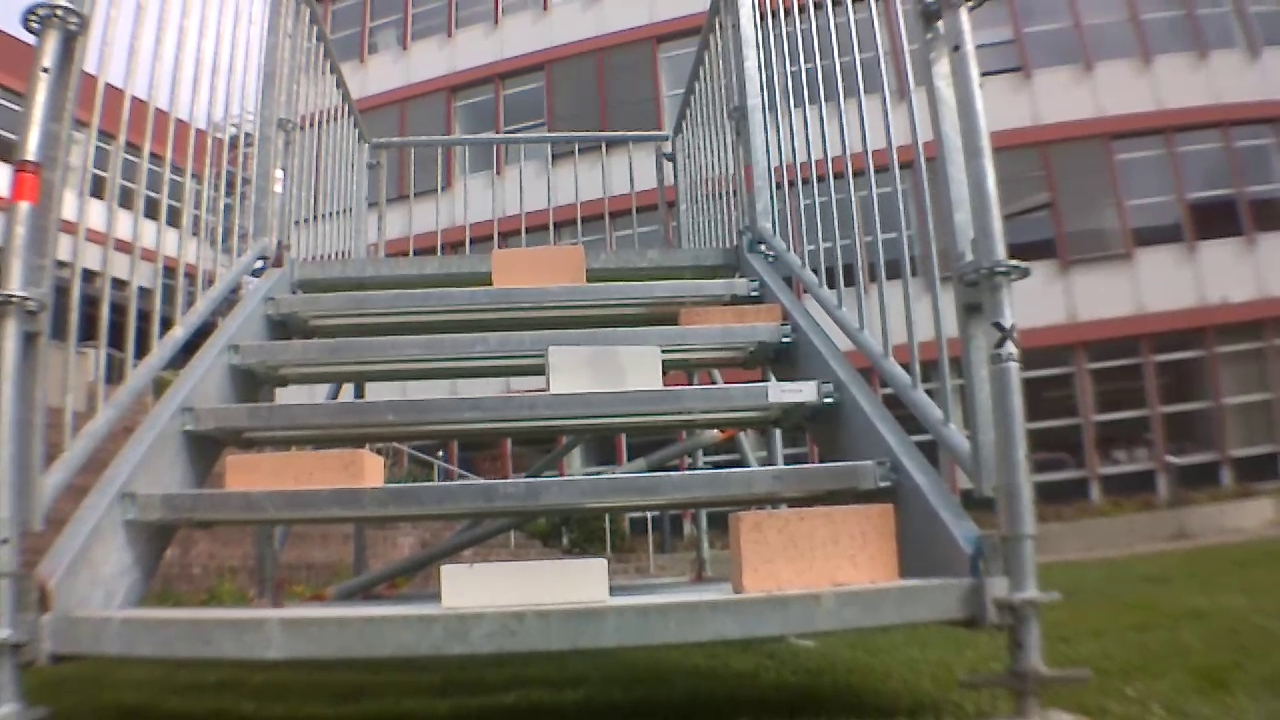brick: (729, 506, 899, 592), (439, 560, 609, 603), (224, 449, 384, 488), (546, 344, 660, 390), (492, 246, 586, 285), (678, 305, 782, 326)
edge: (53, 579, 974, 655), (123, 461, 899, 518), (181, 379, 838, 426), (230, 321, 798, 362), (264, 278, 764, 313), (293, 246, 739, 274)
stairs: (4, 5, 1073, 717)
steps: (44, 239, 979, 662)
